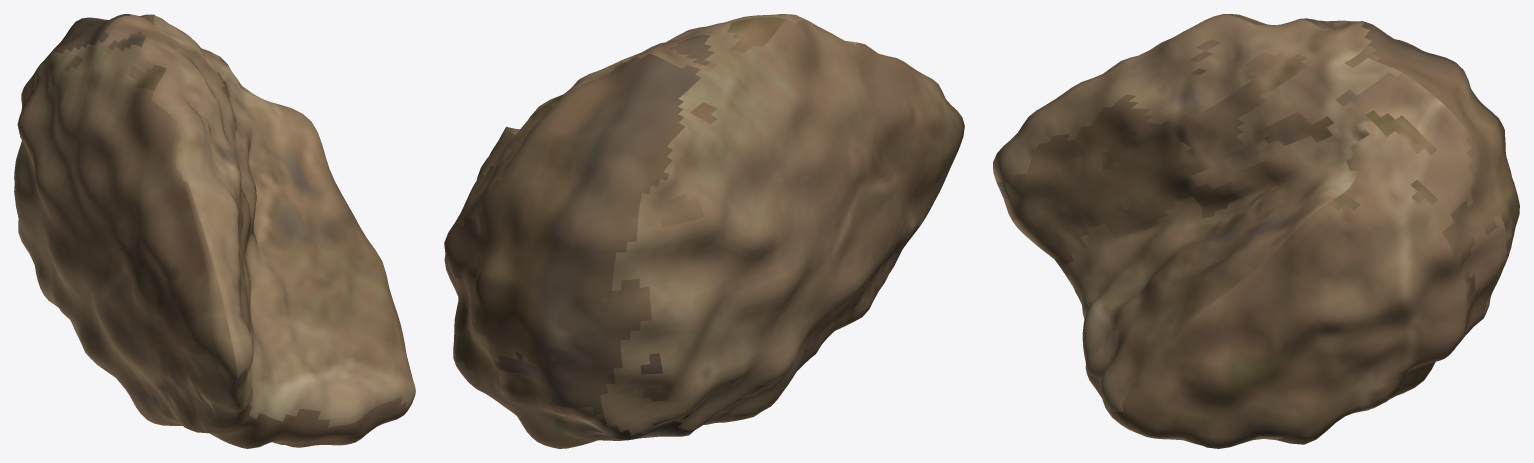
File: Big-Rock-2-tex.fbx
3 views of the same model, side by side, from view 1: azimuth 30°, elevation 25°; view 2: azimuth 150°, elevation 25°; view 3: azimuth 270°, elevation 25° (orthographic). The views are drawn at different scales.
Visible parts, largest first — view 1: rock.002; view 2: rock.002; view 3: rock.002.
Part boxes in pixels (x1,y1,x2,y2): rock.002: (14, 14, 415, 448); rock.002: (444, 14, 964, 448); rock.002: (993, 14, 1519, 448).
Size of the model in its own units: 532 by 686 by 906.
